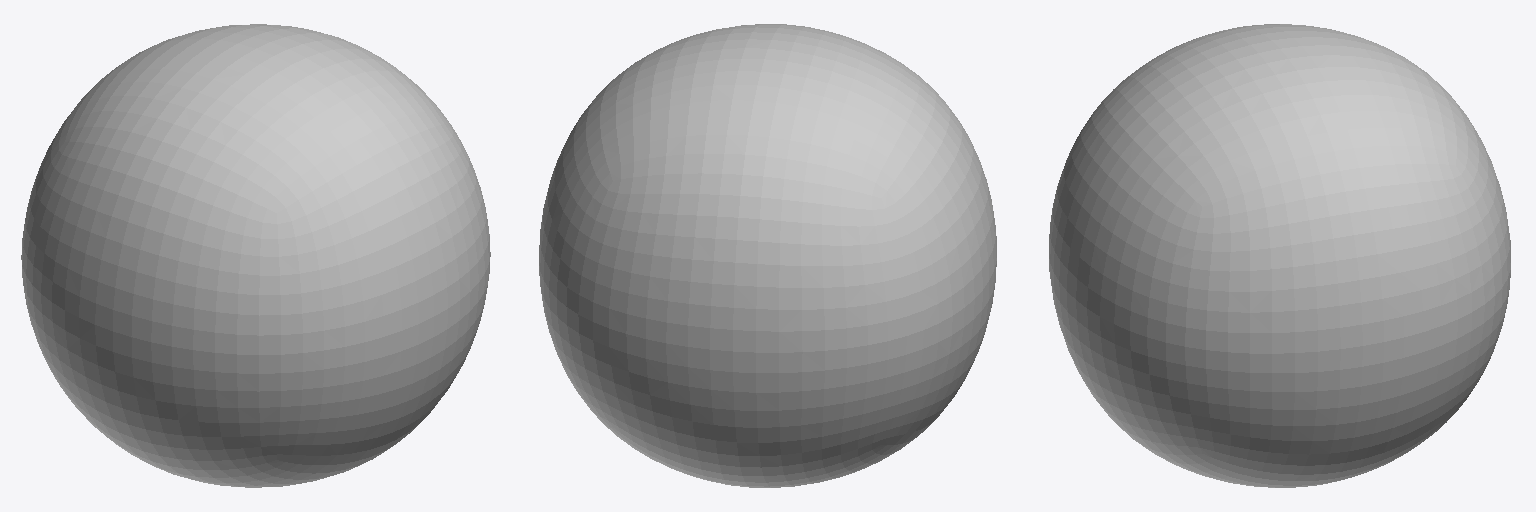
Rendered from ball.obj.
3 views of the same model, side by side, from view 1: azimuth 30°, elevation 25°; view 2: azimuth 150°, elevation 25°; view 3: azimuth 270°, elevation 25° (orthographic).
Size of the model in its own units: 170 by 168 by 170.